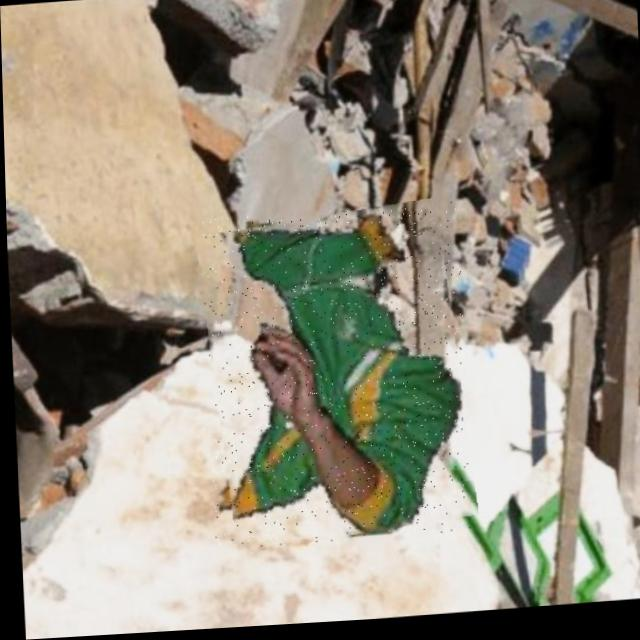Person in Rubble: (198, 206, 469, 553)
